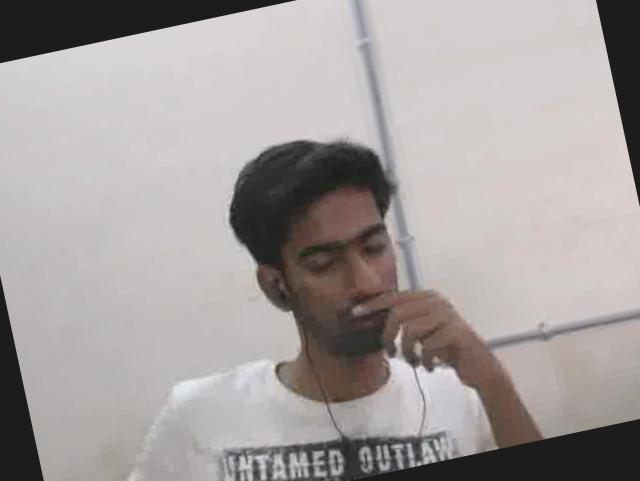bosan: (268, 186, 412, 363)
